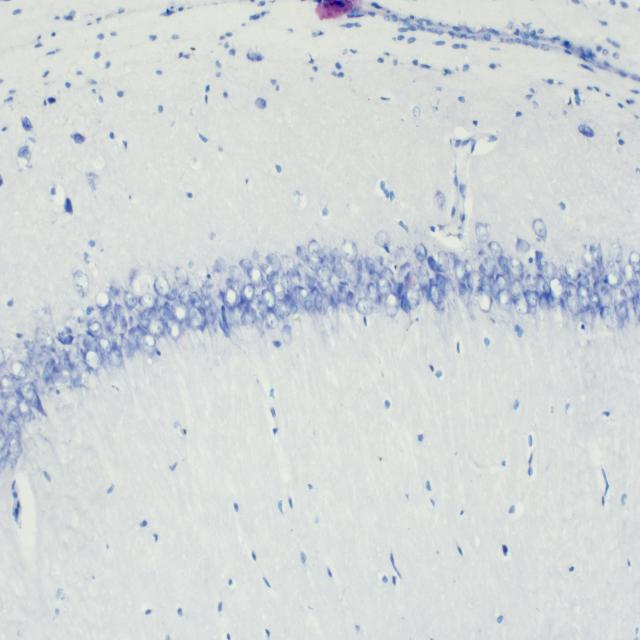neuron: (35, 324, 56, 352), (129, 270, 151, 296), (306, 239, 324, 270), (320, 279, 338, 308), (594, 280, 614, 306), (75, 358, 92, 388), (6, 418, 22, 448), (474, 288, 493, 313), (340, 239, 358, 265), (20, 381, 38, 406), (99, 309, 118, 332), (170, 301, 189, 324), (73, 270, 89, 297), (153, 274, 171, 298), (250, 293, 268, 317), (417, 264, 430, 297), (576, 284, 592, 310), (404, 270, 422, 293), (85, 348, 102, 372), (119, 334, 136, 358), (187, 307, 204, 331), (605, 268, 624, 289), (107, 347, 124, 370), (158, 306, 175, 329), (114, 303, 129, 329), (444, 278, 457, 308), (166, 317, 182, 341), (303, 288, 319, 312), (466, 270, 482, 294), (384, 292, 399, 317), (453, 258, 468, 283), (274, 298, 291, 320), (565, 293, 582, 315), (4, 395, 20, 418), (18, 398, 32, 424), (0, 375, 14, 401), (250, 306, 264, 332), (10, 360, 28, 380), (148, 316, 166, 336), (247, 267, 264, 288), (479, 257, 496, 278), (222, 286, 238, 308), (565, 259, 581, 281), (298, 287, 312, 312), (58, 349, 73, 372), (232, 305, 247, 328), (366, 282, 381, 305), (138, 294, 159, 310), (176, 284, 192, 305), (488, 273, 500, 301), (532, 218, 548, 239), (548, 277, 564, 298), (581, 306, 597, 327), (614, 298, 628, 322), (141, 333, 156, 355), (376, 275, 391, 297), (589, 242, 604, 264), (458, 282, 471, 307), (82, 334, 100, 352), (600, 304, 614, 327), (265, 253, 281, 273), (286, 268, 302, 288), (508, 278, 524, 298), (542, 260, 558, 280), (123, 290, 138, 311), (480, 272, 495, 293), (608, 241, 623, 262), (42, 358, 56, 380), (537, 274, 551, 296), (86, 320, 103, 338), (356, 296, 373, 314), (95, 290, 111, 309), (174, 267, 190, 286), (316, 263, 332, 282), (354, 282, 370, 301), (496, 289, 512, 308), (508, 258, 524, 277), (375, 229, 390, 249), (406, 288, 419, 311), (240, 309, 254, 330), (581, 249, 595, 270), (625, 278, 639, 299), (377, 267, 394, 284), (400, 291, 412, 315), (429, 284, 441, 308), (475, 224, 491, 242), (514, 296, 530, 314), (166, 281, 179, 303), (204, 304, 217, 326), (436, 250, 449, 272), (622, 262, 635, 284), (58, 326, 73, 345), (488, 240, 503, 259), (265, 310, 279, 330), (241, 282, 255, 302), (590, 291, 600, 319), (322, 245, 335, 266), (414, 242, 427, 263), (590, 262, 606, 279), (261, 288, 276, 306), (136, 309, 150, 328), (189, 291, 203, 310), (228, 264, 242, 283), (272, 282, 286, 301), (329, 247, 343, 266), (524, 289, 538, 308), (435, 272, 446, 296), (629, 249, 640, 273), (99, 335, 112, 355), (497, 254, 510, 274), (496, 274, 509, 294), (576, 272, 592, 288), (515, 238, 530, 255), (51, 362, 62, 385), (60, 368, 72, 389), (131, 326, 143, 347), (281, 323, 293, 344), (10, 438, 22, 458), (13, 377, 25, 397), (296, 244, 308, 264), (332, 262, 347, 278), (525, 272, 537, 292), (306, 274, 319, 292), (364, 256, 377, 274), (314, 291, 324, 314), (143, 307, 158, 322), (279, 273, 290, 293), (321, 292, 331, 314), (538, 293, 549, 313), (214, 256, 226, 274), (239, 259, 253, 274), (545, 290, 556, 309), (0, 428, 8, 453), (347, 291, 357, 311), (224, 278, 239, 291), (266, 270, 279, 284), (564, 282, 577, 296), (535, 250, 544, 270), (339, 284, 347, 302), (368, 268, 378, 282), (0, 346, 6, 368), (352, 260, 363, 272), (527, 305, 537, 315), (0, 408, 5, 427), (0, 456, 6, 469)
